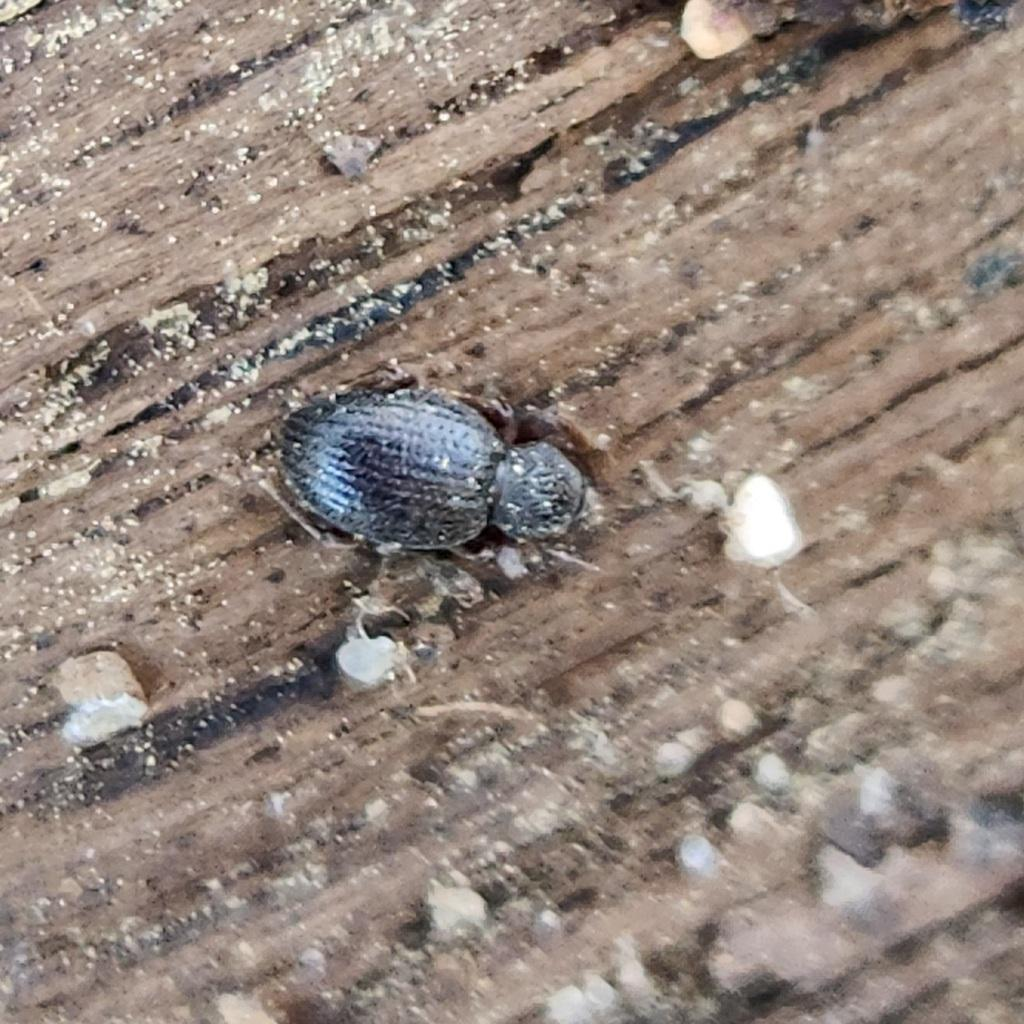weevils: (190, 327, 680, 616)
